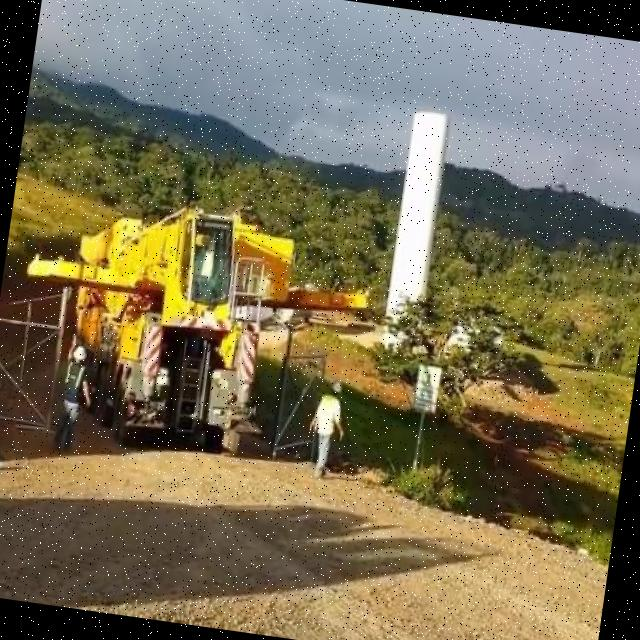Mobile Crane: (5, 176, 373, 468)
